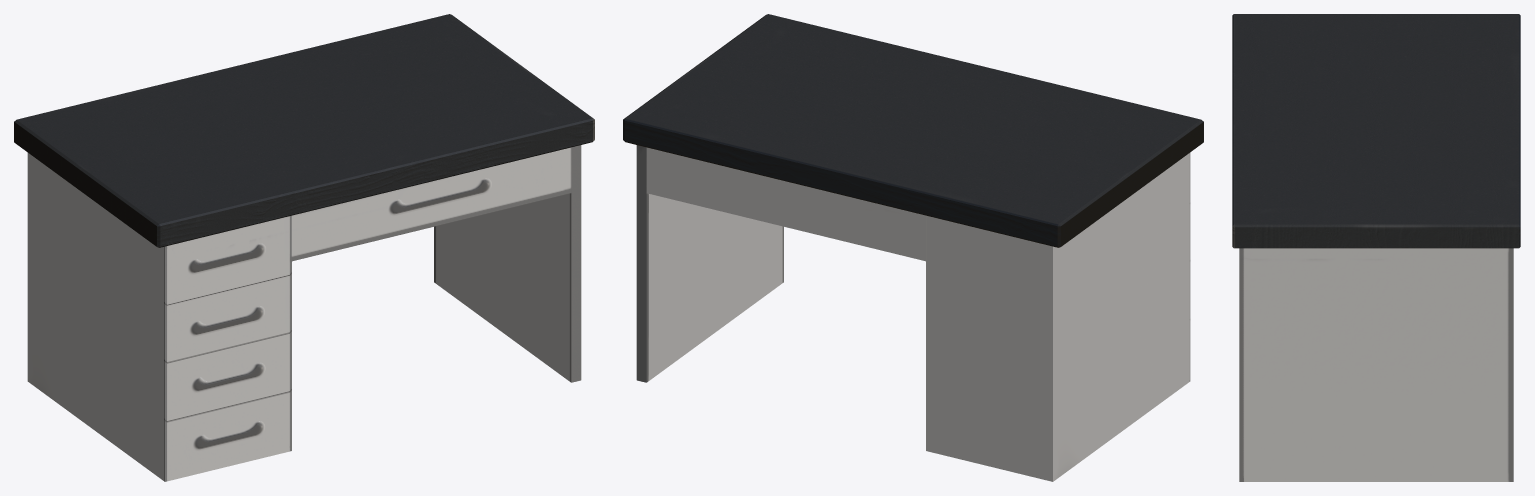
Rendered from Table_001.fbx.
The picture shows the model from 3 angles, left to right: view 1: azimuth 30°, elevation 25°; view 2: azimuth 150°, elevation 25°; view 3: azimuth 270°, elevation 25°; orthographic projection.
Parts seen in each view (by area): view 1: Table_001; view 2: Table_001; view 3: Table_001.
Boxes of the visible parts, x1,y1,x2,y2 form: Table_001: (14, 14, 594, 481); Table_001: (623, 14, 1203, 481); Table_001: (1232, 14, 1520, 481).
Size of the model in its own units: 140 by 80 by 80.
Materials: 1 (1 with a texture image).
